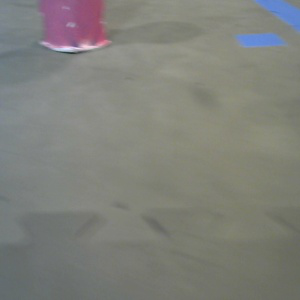middle: (39, 1, 113, 52)
